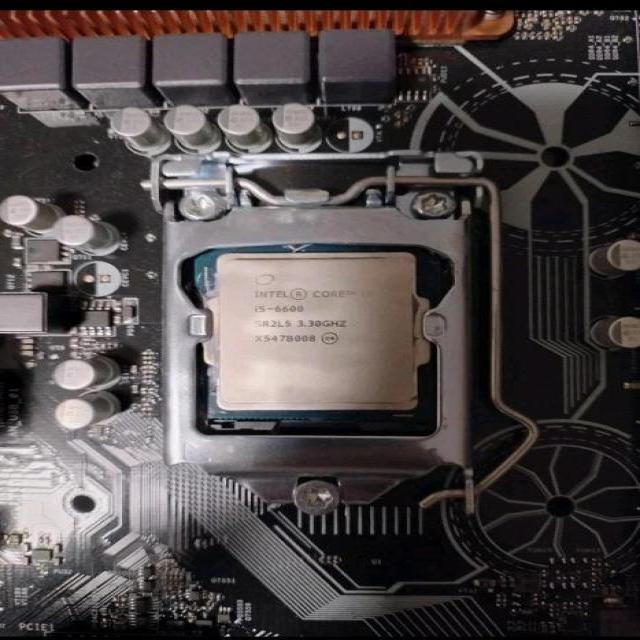CPU: (201, 251, 432, 414)
